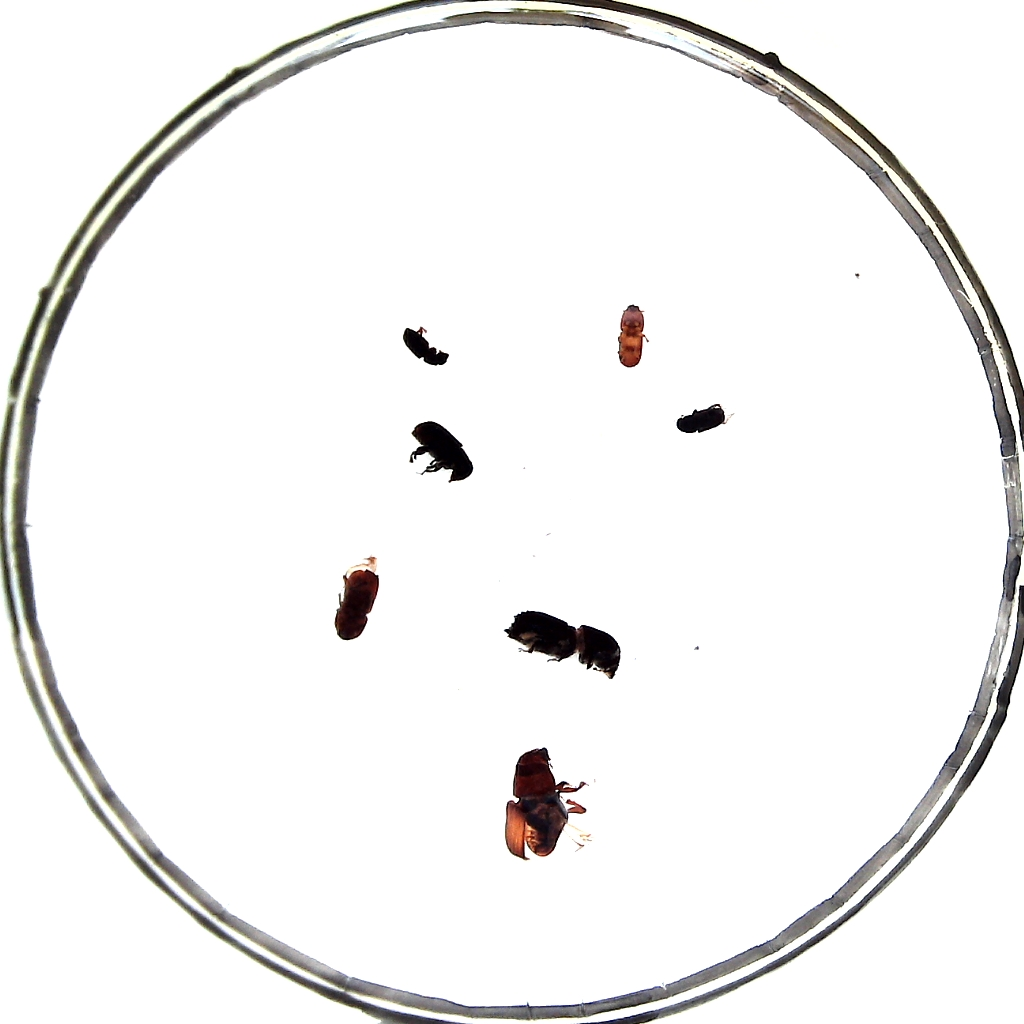Boerner: (502, 608, 616, 675)
Leconte: (505, 746, 589, 858)
Linnaeus: (335, 563, 378, 639)
acuminatus: (620, 303, 645, 366)
armandi: (410, 421, 471, 479)
coleoptera: (404, 325, 445, 369), (675, 403, 726, 436)
